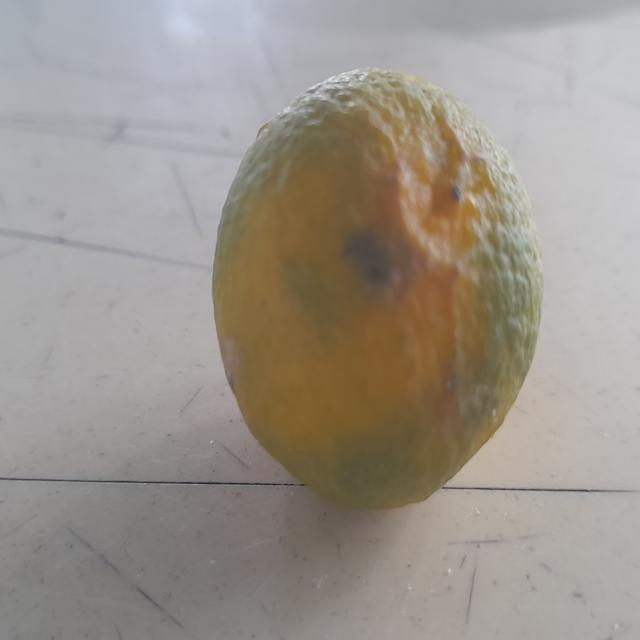greening: (213, 62, 547, 523)
